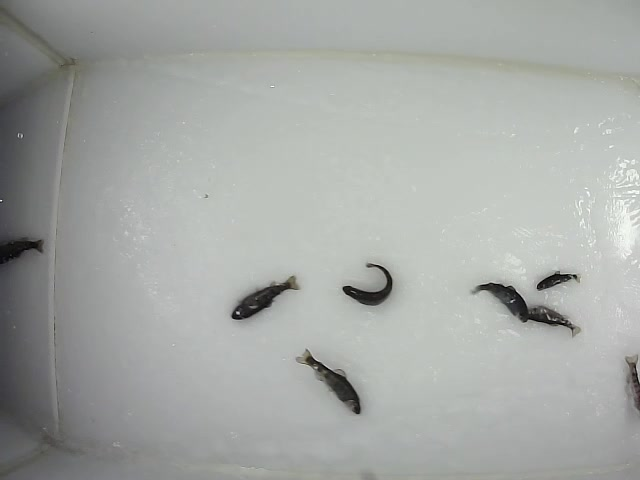fish: (293, 346, 361, 417), (227, 273, 301, 321), (340, 258, 395, 307), (468, 280, 529, 323), (522, 304, 582, 339), (534, 269, 581, 291)
